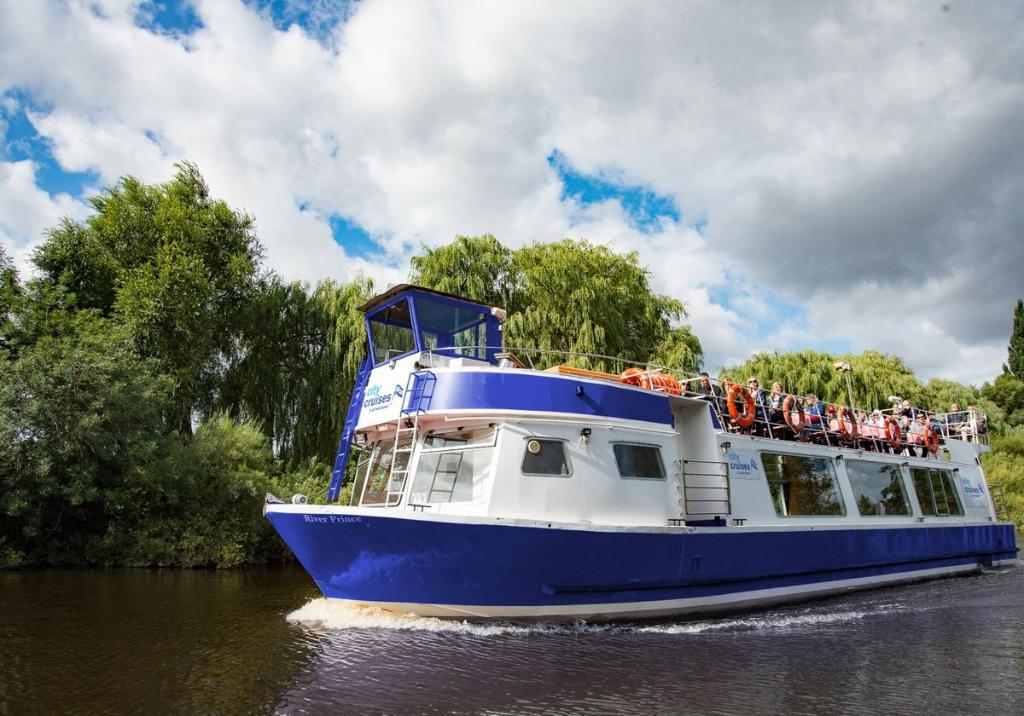PassengerShip: (226, 284, 1024, 614)
